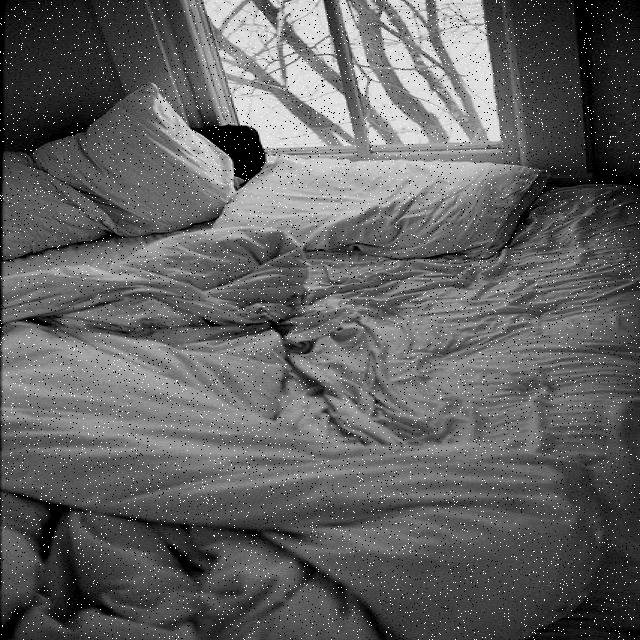bed: (0, 83, 640, 640)
